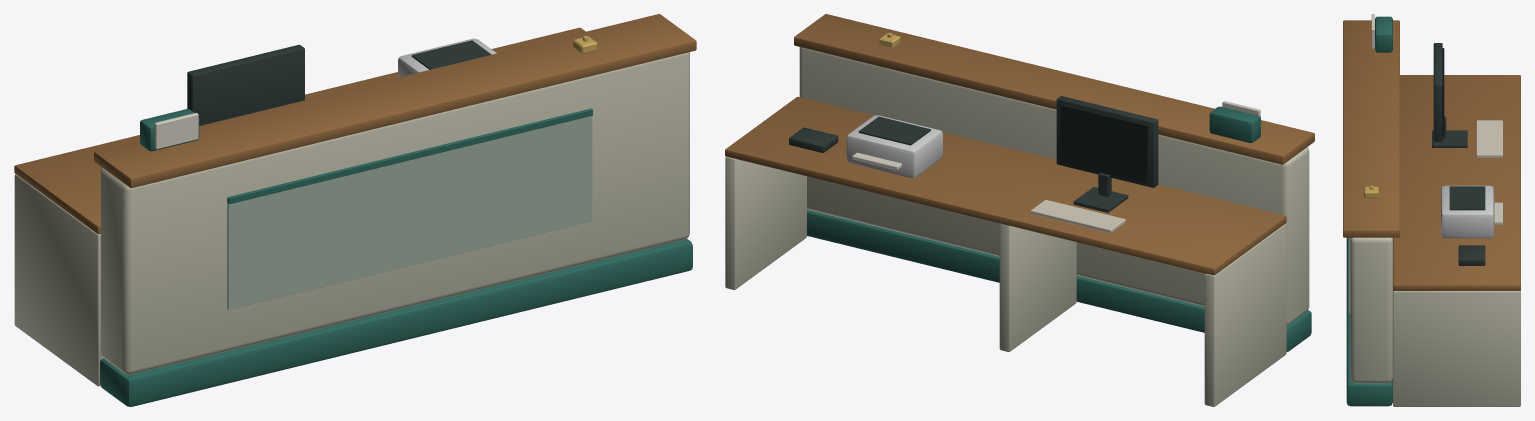
Rendered from reception-desk.glb.
The picture shows the model from 3 angles, left to right: view 1: azimuth 30°, elevation 25°; view 2: azimuth 150°, elevation 25°; view 3: azimuth 270°, elevation 25°; orthographic projection. The views are drawn at different scales.
Parts seen in each view (by area): view 1: reception-desk; view 2: reception-desk; view 3: reception-desk.
Boxes of the visible parts, left/top/right/bottom form: reception-desk: left=14, top=14, right=696, bottom=406; reception-desk: left=725, top=14, right=1314, bottom=406; reception-desk: left=1343, top=14, right=1520, bottom=406.
Bounding box in the file's own units: 2.8 × 1.24 × 1.
